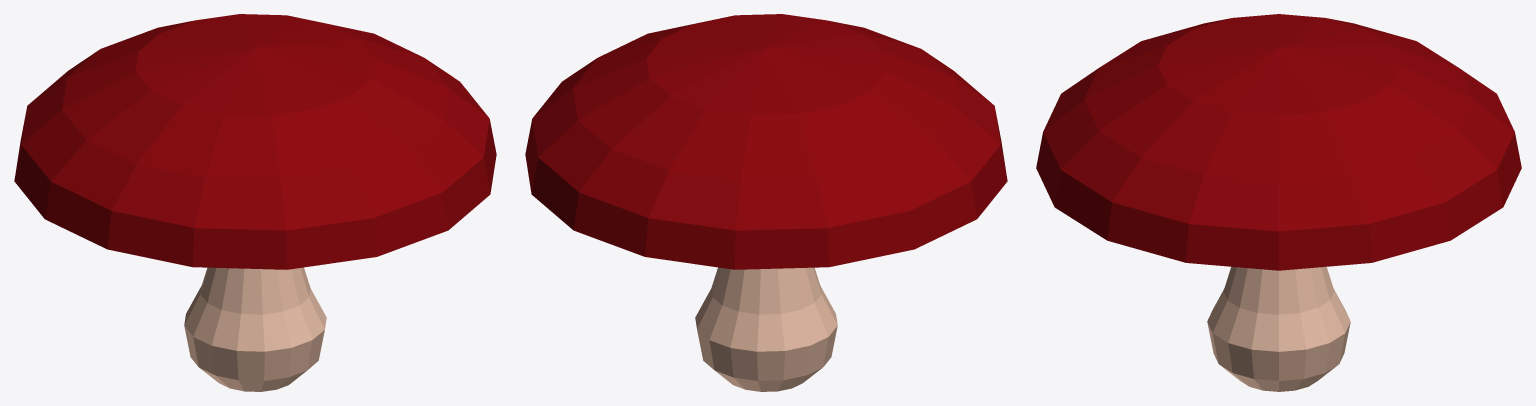
File: Mushroom_001.fbx
The picture shows the model from 3 angles, left to right: view 1: azimuth 30°, elevation 25°; view 2: azimuth 150°, elevation 25°; view 3: azimuth 270°, elevation 25°; orthographic projection.
Parts seen in each view (by area): view 1: mushroom_001; view 2: mushroom_001; view 3: mushroom_001.
Boxes of the visible parts, left/top/right/bottom form: mushroom_001: left=14, top=14, right=496, bottom=391; mushroom_001: left=525, top=14, right=1007, bottom=391; mushroom_001: left=1036, top=14, right=1521, bottom=391.
Bounding box in the file's own units: 38.44 × 28.45 × 38.44.
